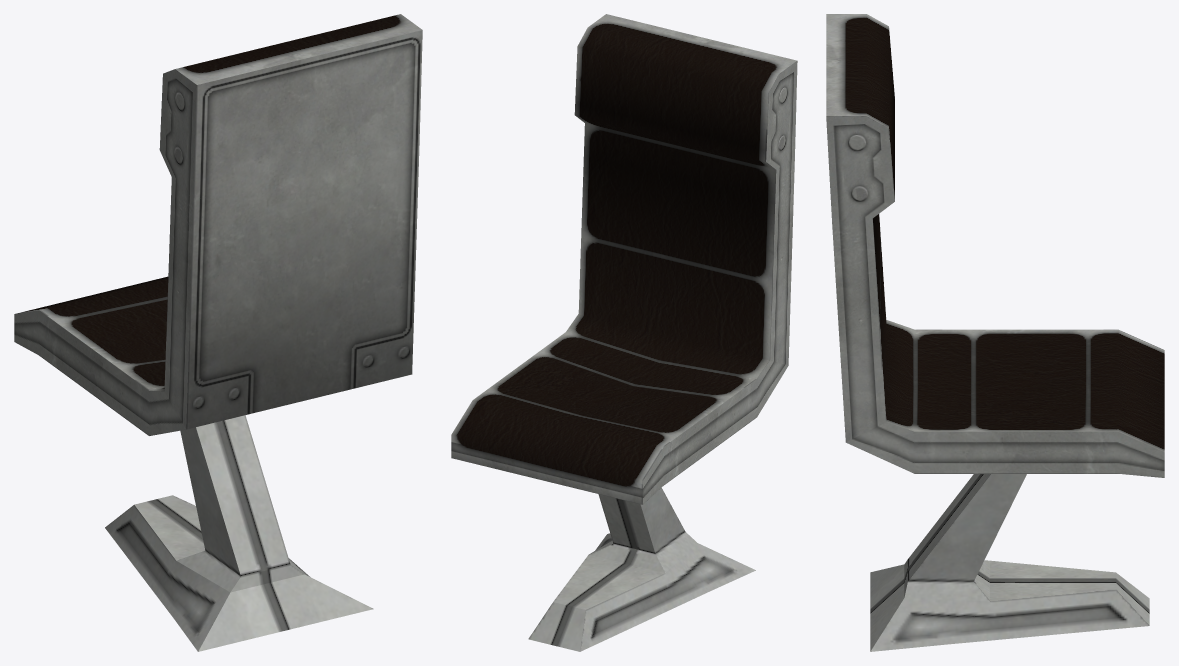
File: Obj_Chair_2.FBX
3 views of the same model, side by side, from view 1: azimuth 30°, elevation 25°; view 2: azimuth 150°, elevation 25°; view 3: azimuth 270°, elevation 25° (orthographic). The views are drawn at different scales.
Parts seen in each view (by area): view 1: Chair_2; view 2: Chair_2; view 3: Chair_2.
Boxes of the visible parts, box(x1,y1,x2,y2) form: Chair_2: box(14, 14, 422, 651); Chair_2: box(451, 14, 797, 651); Chair_2: box(826, 14, 1164, 651).
Bounding box in the file's own units: 0.7948 × 1.99 × 1.11.
